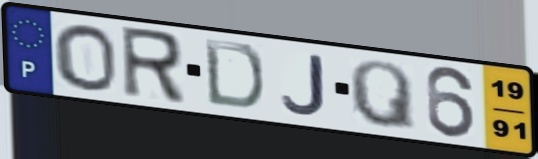6: (424, 65, 476, 140)
D: (201, 36, 268, 112)
J: (279, 53, 329, 117)
O: (50, 22, 120, 94)
Q: (346, 58, 419, 134)
R: (117, 24, 189, 108)
